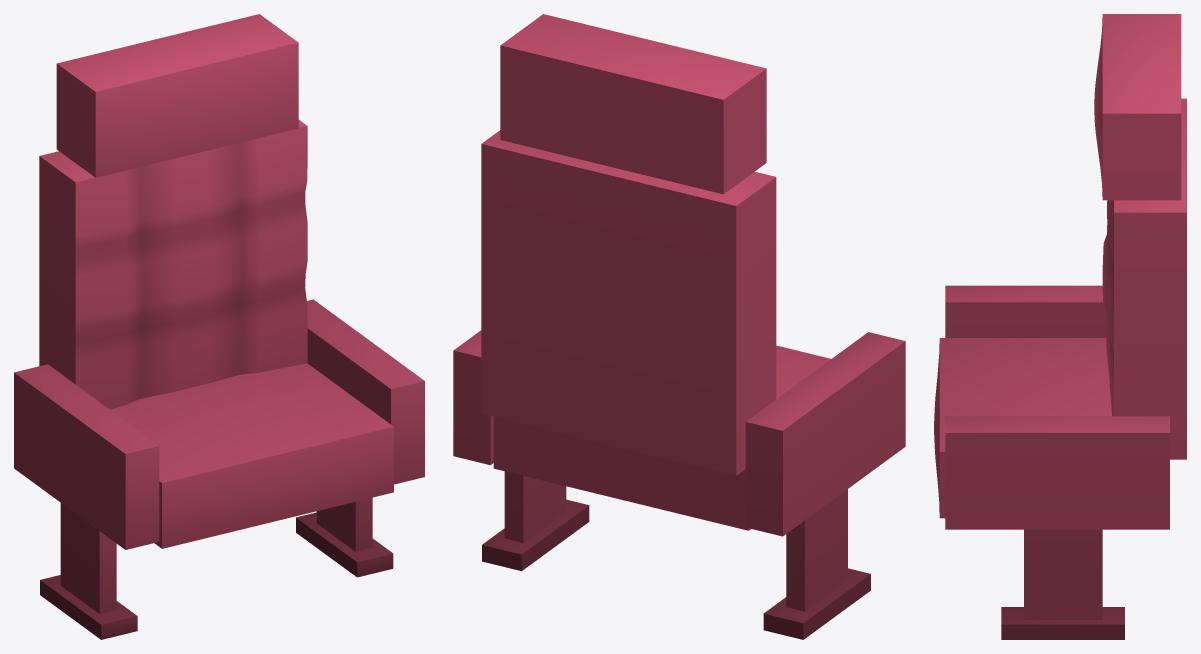
Rendered from seat_premium.glb.
3 renders of one model, left to right at view 1: azimuth 30°, elevation 25°; view 2: azimuth 150°, elevation 25°; view 3: azimuth 270°, elevation 25°, orthographic. The views are drawn at different scales.
Visible parts, largest first — view 1: StandardSeat_LOD0; view 2: StandardSeat_LOD0; view 3: StandardSeat_LOD0.
Boxes of the visible parts, <box> form: StandardSeat_LOD0: <box>14,14,424,639</box>; StandardSeat_LOD0: <box>453,14,905,639</box>; StandardSeat_LOD0: <box>934,14,1186,639</box>.
Size of the model in its own units: 1.24 by 2 by 0.9.
